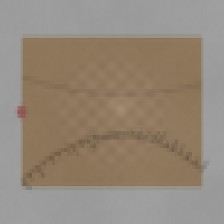hemorrhage_spot: (99, 89, 178, 152)
